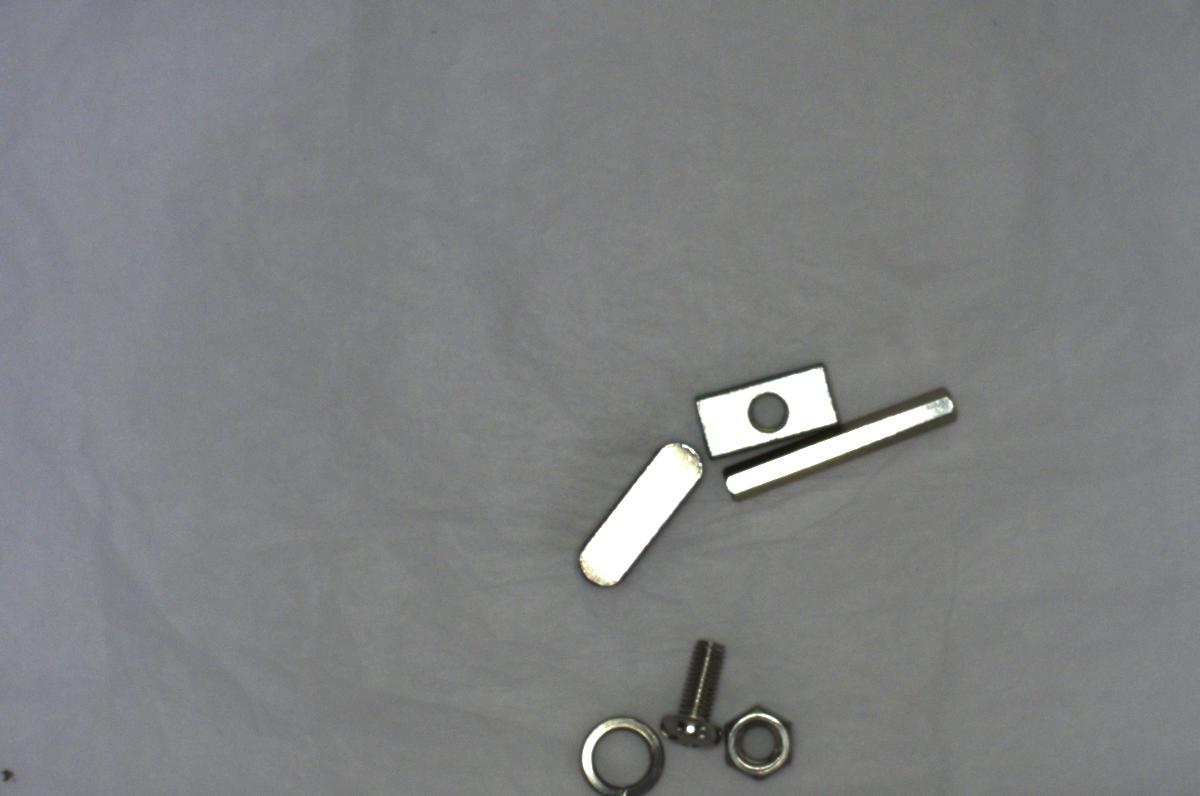Double hexagonal column: (714, 385, 969, 509)
Hexagon nut: (721, 699, 798, 783)
Keybar: (560, 430, 712, 586)
Rectangular nut: (687, 358, 850, 463)
Round head screw: (652, 627, 729, 754)
Spring washer: (566, 713, 673, 795)
